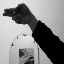h: (2, 3, 30, 25)
